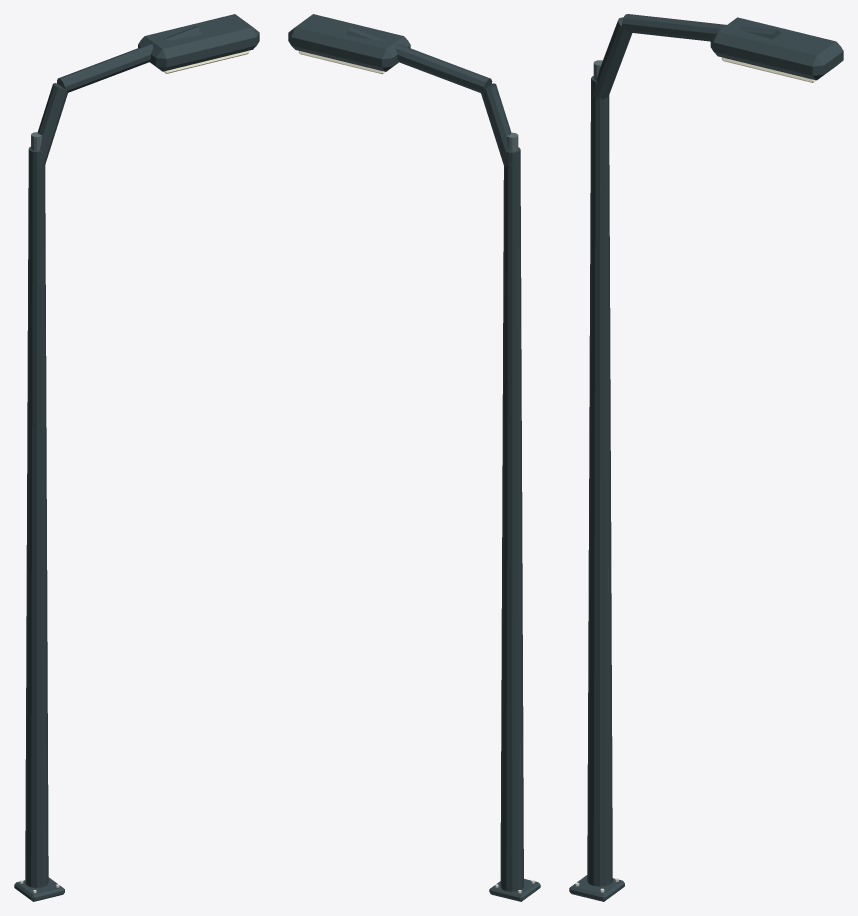
The model's file is street_lamp.glb.
The picture shows the model from 3 angles, left to right: view 1: azimuth 30°, elevation 25°; view 2: azimuth 150°, elevation 25°; view 3: azimuth 330°, elevation 25°; orthographic projection. The views are drawn at different scales.
Parts seen in each view (by area): view 1: street_lamp__main_column, street_lamp__lamp_shell, street_lamp__curved_arm_b, street_lamp__curved_arm_a, street_lamp__base_plate; view 2: street_lamp__main_column, street_lamp__lamp_shell, street_lamp__curved_arm_b, street_lamp__curved_arm_a, street_lamp__base_plate; view 3: street_lamp__main_column, street_lamp__lamp_shell, street_lamp__curved_arm_b, street_lamp__curved_arm_a, street_lamp__base_plate.
Part boxes in pixels (x1,y1,x2,y2): street_lamp__main_column: [25, 146, 48, 887]; street_lamp__lamp_shell: [138, 14, 259, 71]; street_lamp__curved_arm_b: [57, 26, 202, 92]; street_lamp__curved_arm_a: [38, 83, 67, 165]; street_lamp__base_plate: [14, 877, 64, 901]; street_lamp__main_column: [500, 147, 523, 891]; street_lamp__lamp_shell: [288, 14, 410, 71]; street_lamp__curved_arm_b: [346, 26, 492, 92]; street_lamp__curved_arm_a: [481, 83, 515, 166]; street_lamp__base_plate: [489, 879, 540, 901]; street_lamp__main_column: [587, 76, 612, 886]; street_lamp__lamp_shell: [710, 17, 843, 80]; street_lamp__curved_arm_b: [622, 14, 780, 41]; street_lamp__curved_arm_a: [592, 17, 632, 99]; street_lamp__base_plate: [569, 875, 624, 901].
Bounding box in the file's own units: 1.71 × 5.83 × 0.33.
